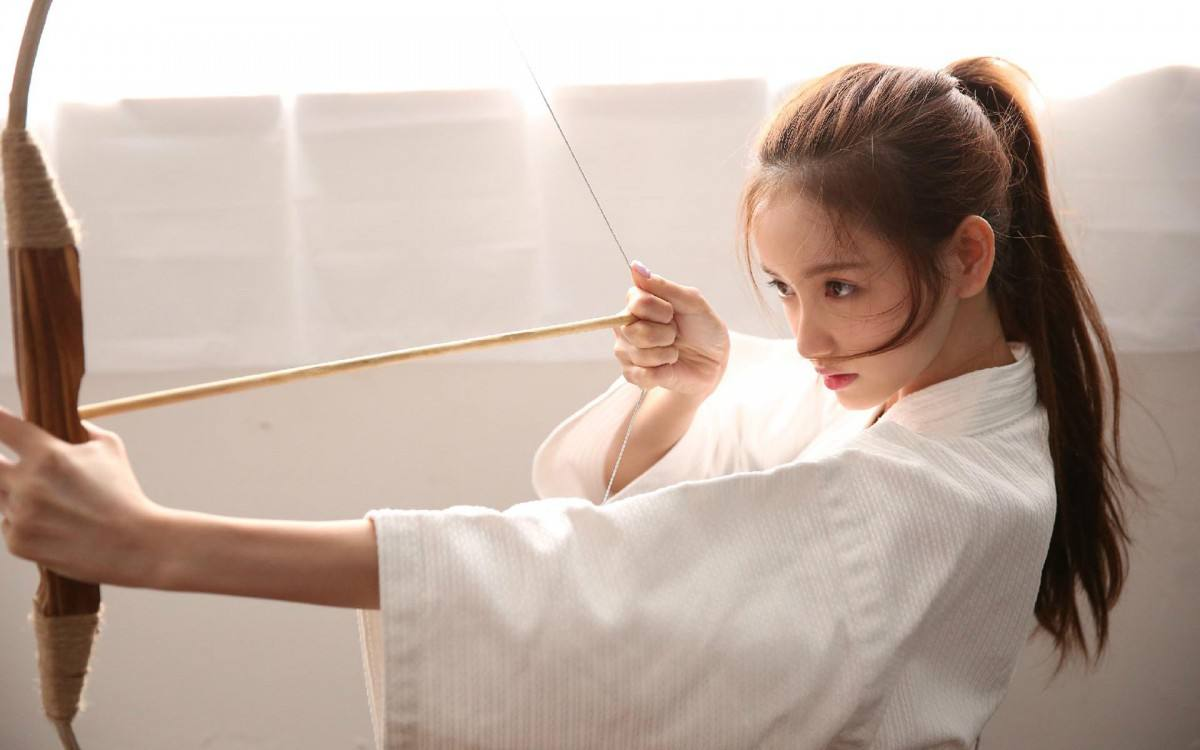person: (454, 73, 1126, 750)
